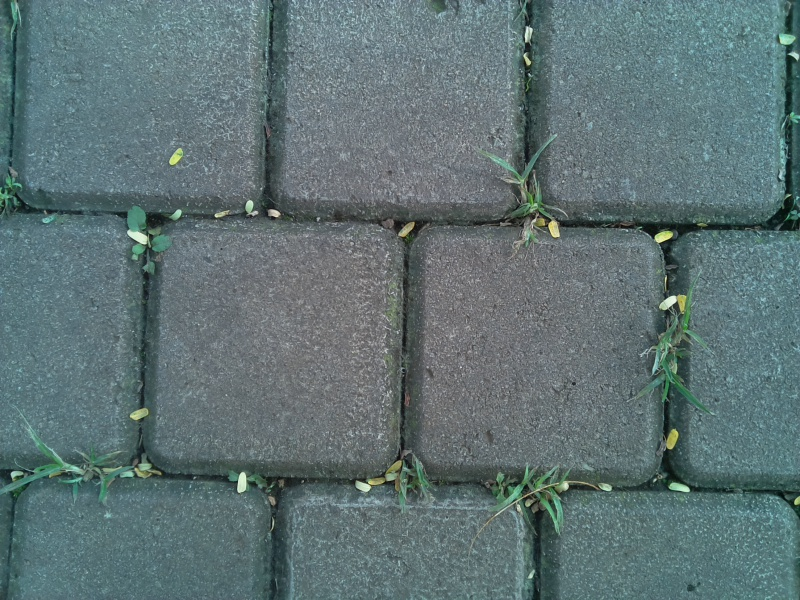Weed: (16, 435, 136, 497), (491, 145, 560, 252), (487, 461, 579, 530), (641, 303, 694, 403), (120, 205, 177, 280), (387, 444, 432, 504), (220, 468, 264, 497), (1, 168, 20, 221), (779, 105, 800, 139), (782, 201, 800, 224)
